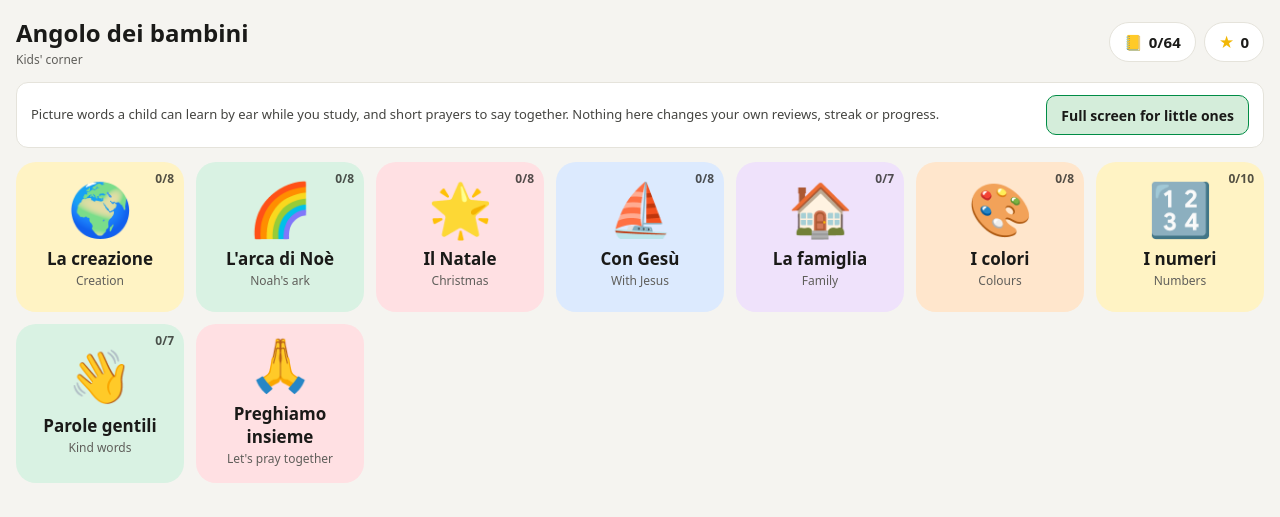
it: KidsTab › shows a prayer line by line from the course devotions
Click the button "🙏 Preghiamo insieme Let's pray together" at (280, 404), box x1=196 y1=324 x2=364 y2=483
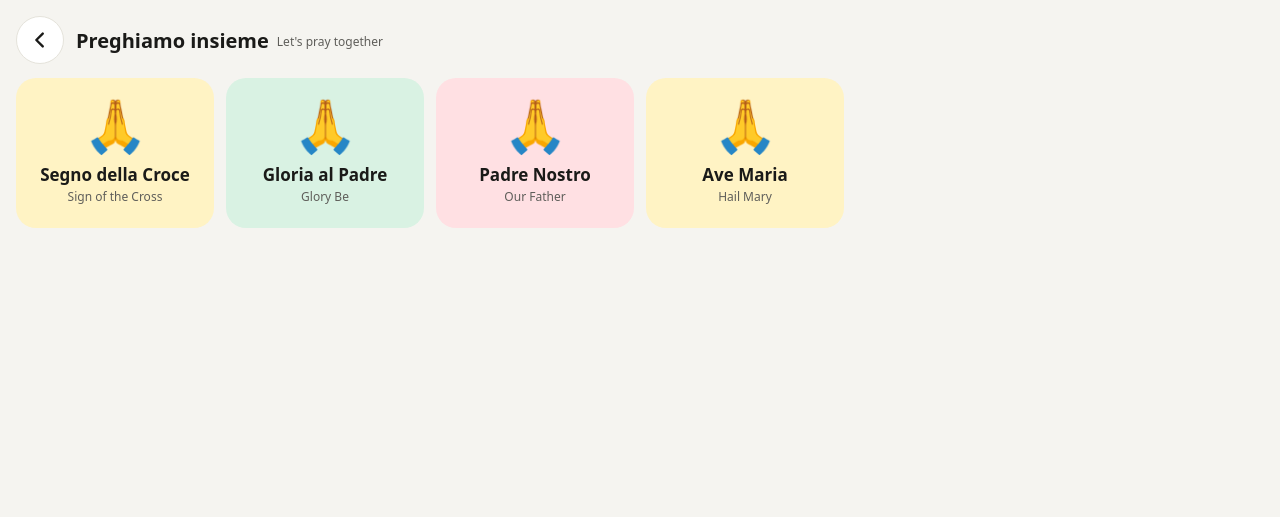
Click the button "🙏 Segno della Croce Sign of the Cross" at (115, 153), box x1=16 y1=78 x2=214 y2=228
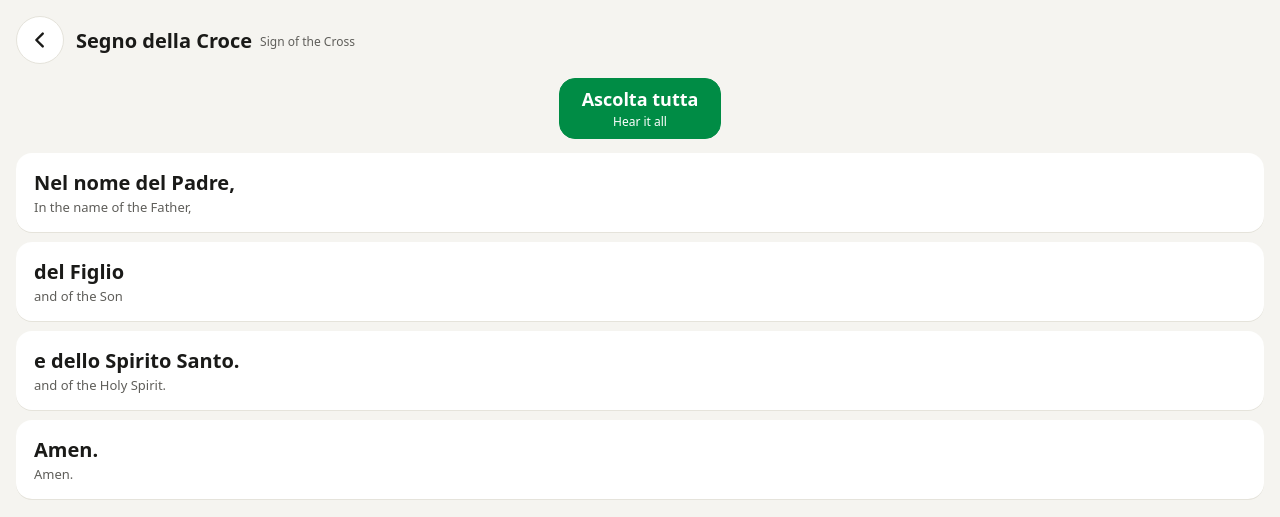
Expected: the text "Nel nome del Padre," is shown, x1=34 y1=169 x2=235 y2=196
Expected: the text "e dello Spirito Santo." is shown, x1=34 y1=347 x2=240 y2=374
